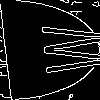W: (24, 25, 100, 74)
